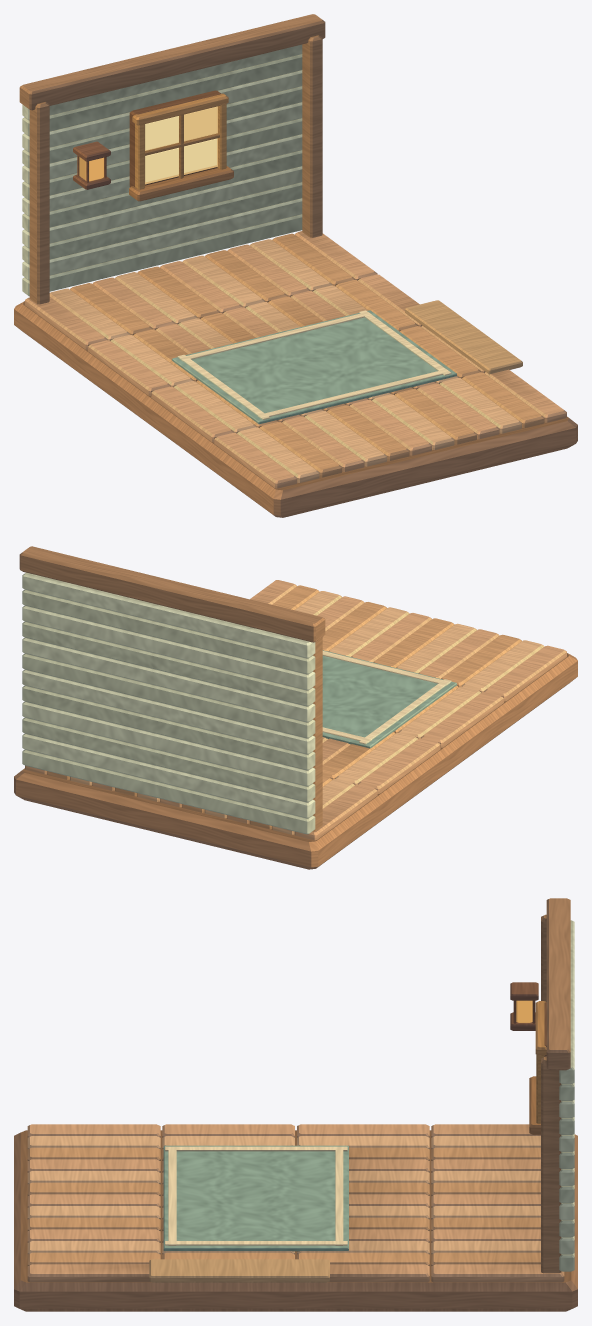
Rendered from interior_annex_1.glb.
3 renders of one model, top to bottom at view 1: azimuth 30°, elevation 25°; view 2: azimuth 150°, elevation 25°; view 3: azimuth 270°, elevation 25°, orthographic. The views are drawn at different scales.
Parts seen in each view (by area): view 1: Hofanbau · Lesekammer; view 2: Hofanbau · Lesekammer; view 3: Hofanbau · Lesekammer.
Boxes of the visible parts, x1,y1,x2,y2 form: Hofanbau · Lesekammer: (14,14,577,517); Hofanbau · Lesekammer: (14,546,577,869); Hofanbau · Lesekammer: (14,898,577,1311).
Bounding box in the file's own units: 4.15 × 3.13 × 6.12.
3 materials, 2 textured.
